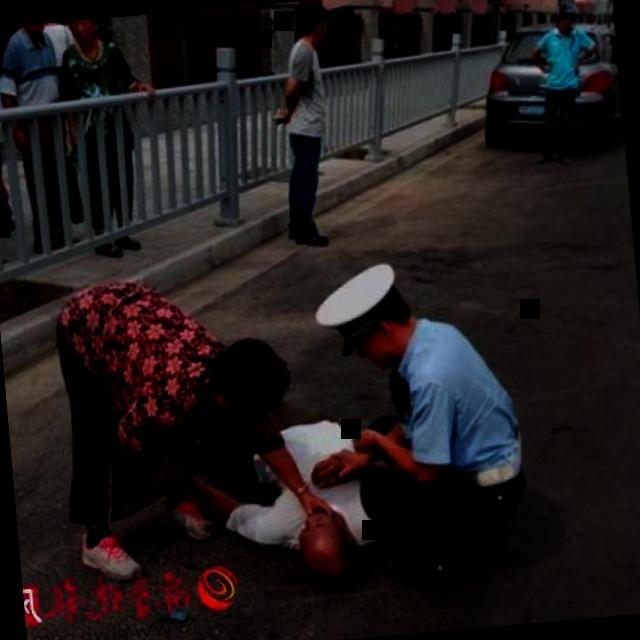Fall-Detected: (169, 386, 415, 598)
